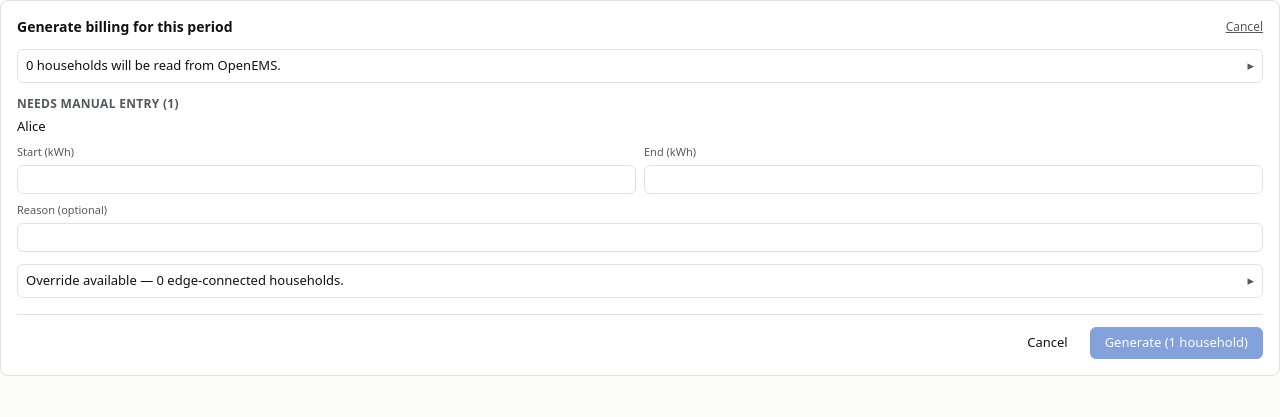
Test: PreflightPanel — block-until-filled (Q1=A) › Generate button disabled when needs-manual rows are empty; enables when filled
Check: the button with test id "preflight-generate-button" is disabled, box [1090,326,1263,358]
Type "100" into the number field named "Start kWh for Alice".
click(326, 179); type("100")  # box [17,164,636,194]
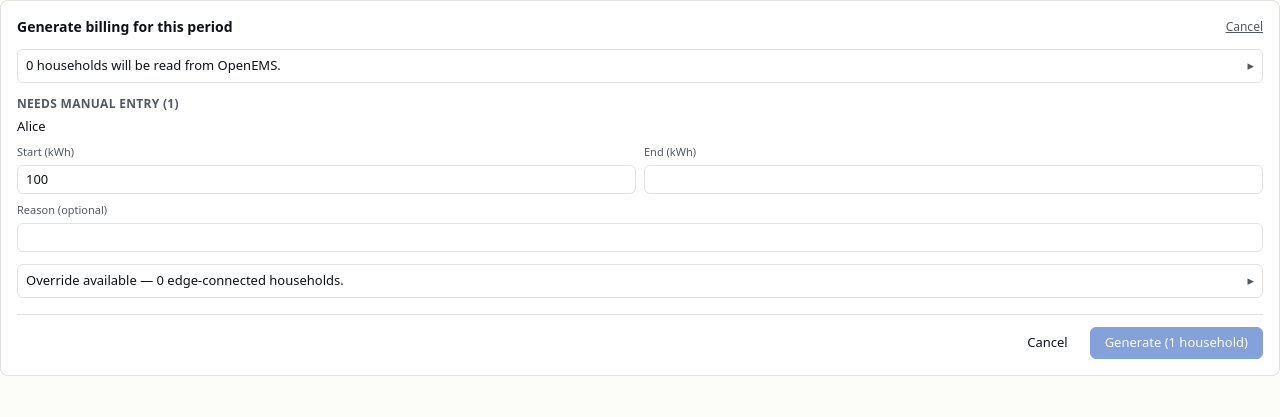
Type "150" into the number field named "End kWh for Alice".
click(954, 179); type("150")  # box [644,164,1263,194]
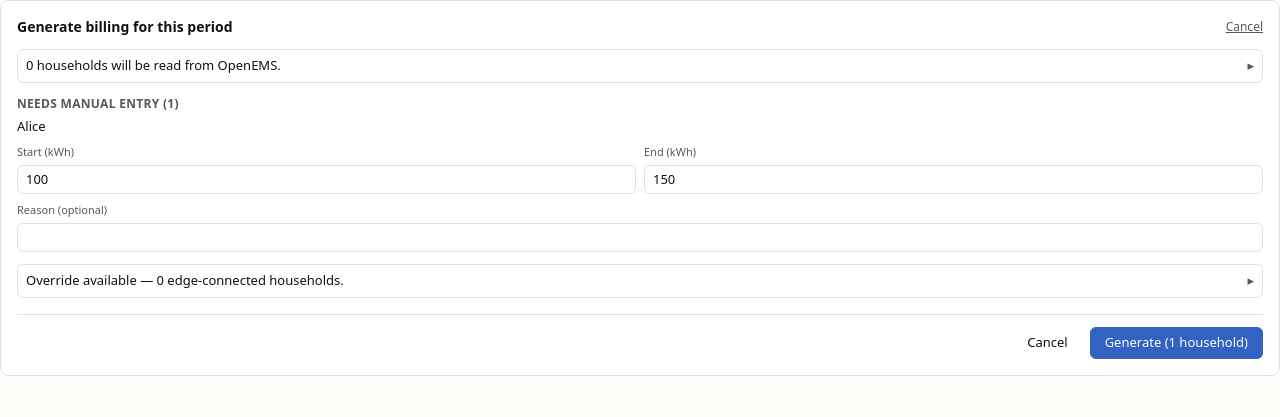
Check: the button with test id "preflight-generate-button" is enabled, box [1090,326,1263,358]
Replace the text in the number field named "End kWh for Alice" with "50" at (954,179), box [644,164,1263,194]
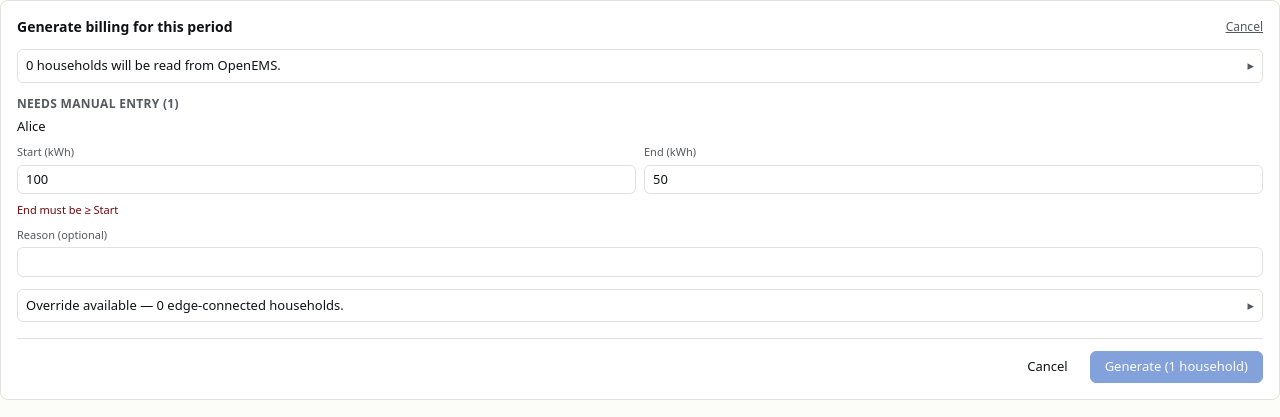
Check: the button with test id "preflight-generate-button" is disabled, box [1090,351,1263,383]
